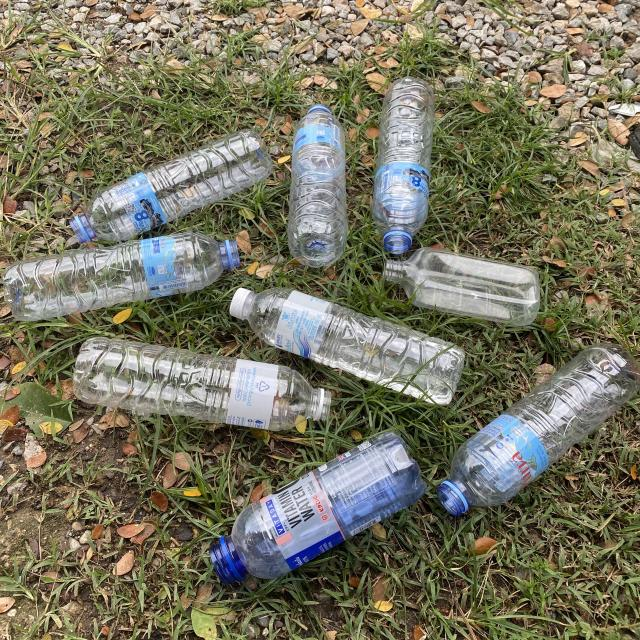plastik: (436, 344, 640, 515), (210, 431, 426, 584), (230, 288, 464, 405), (74, 338, 330, 431), (70, 130, 272, 244), (2, 232, 240, 321), (384, 248, 540, 326), (372, 76, 434, 254), (288, 105, 348, 268)
